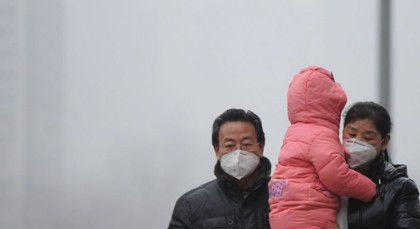face_mask: (218, 123, 260, 183), (344, 120, 380, 165)
